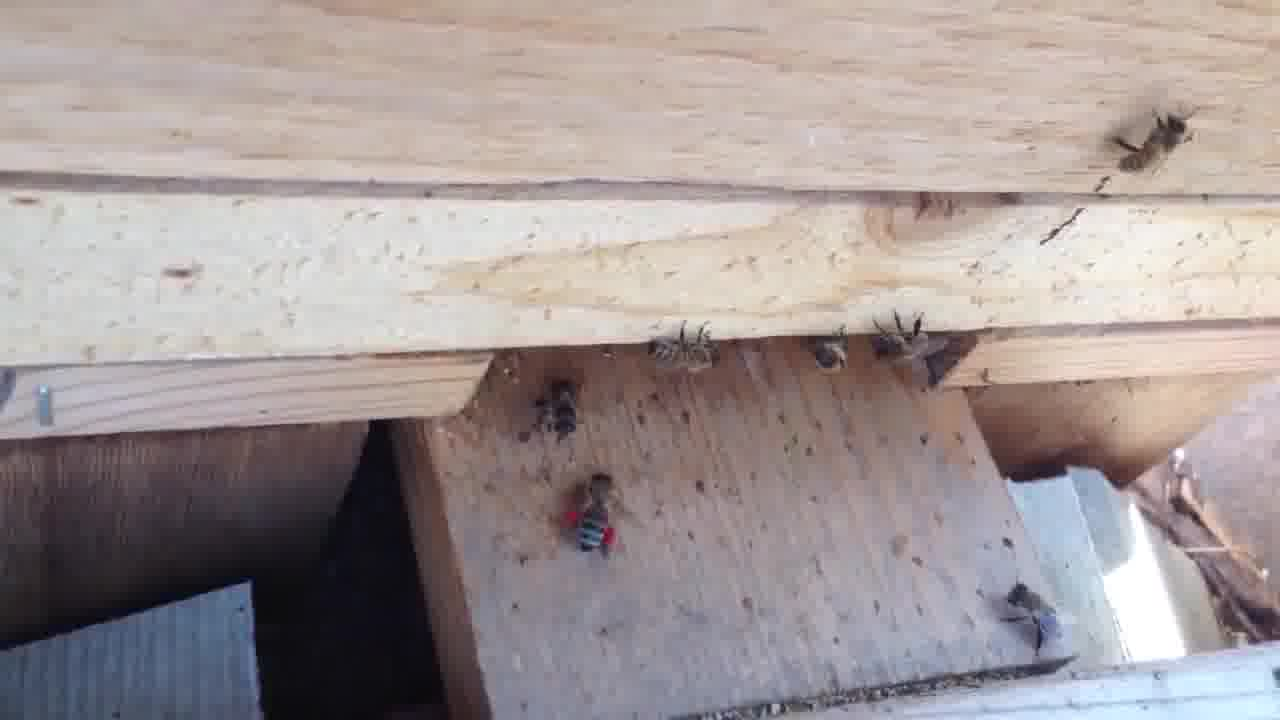pollen: (559, 471, 635, 558)
